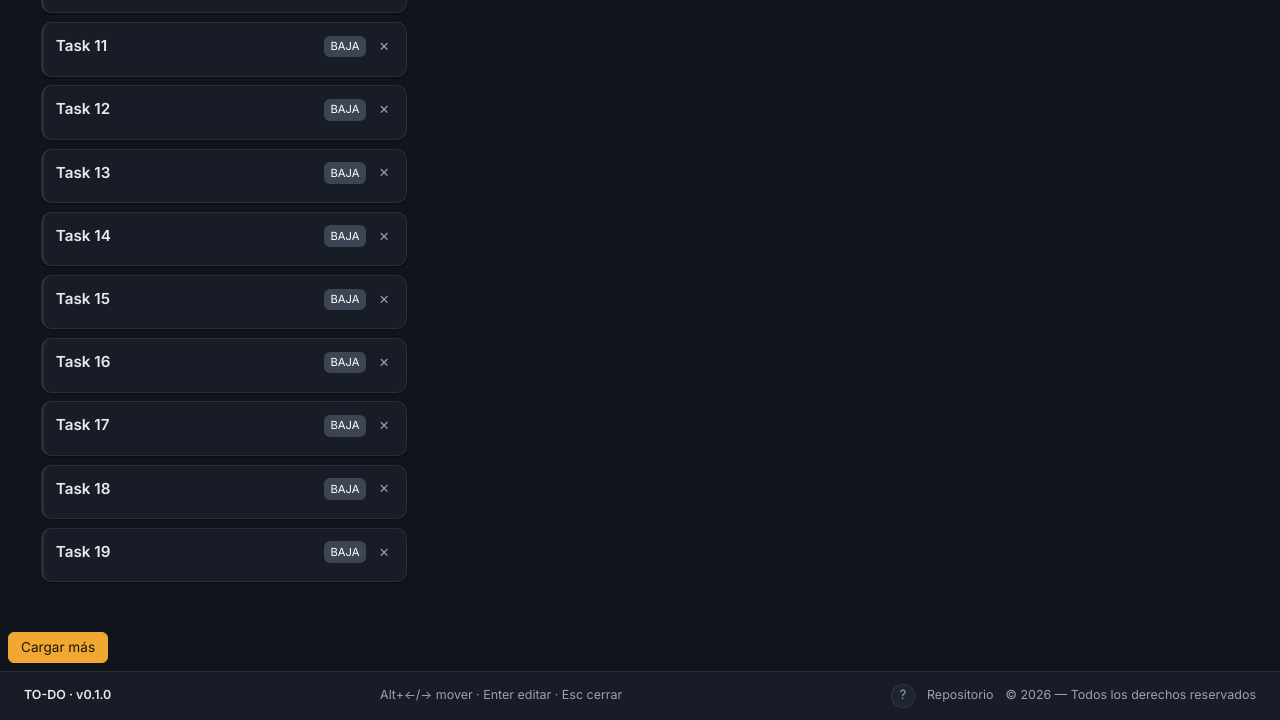
TodoListPage Kanban (through the repository seam) › loads more pages of tasks
The image size is (1280, 720).
(page scrolled)
Click the button "Cargar más".
click(58, 647)  # box [8,632,108,663]
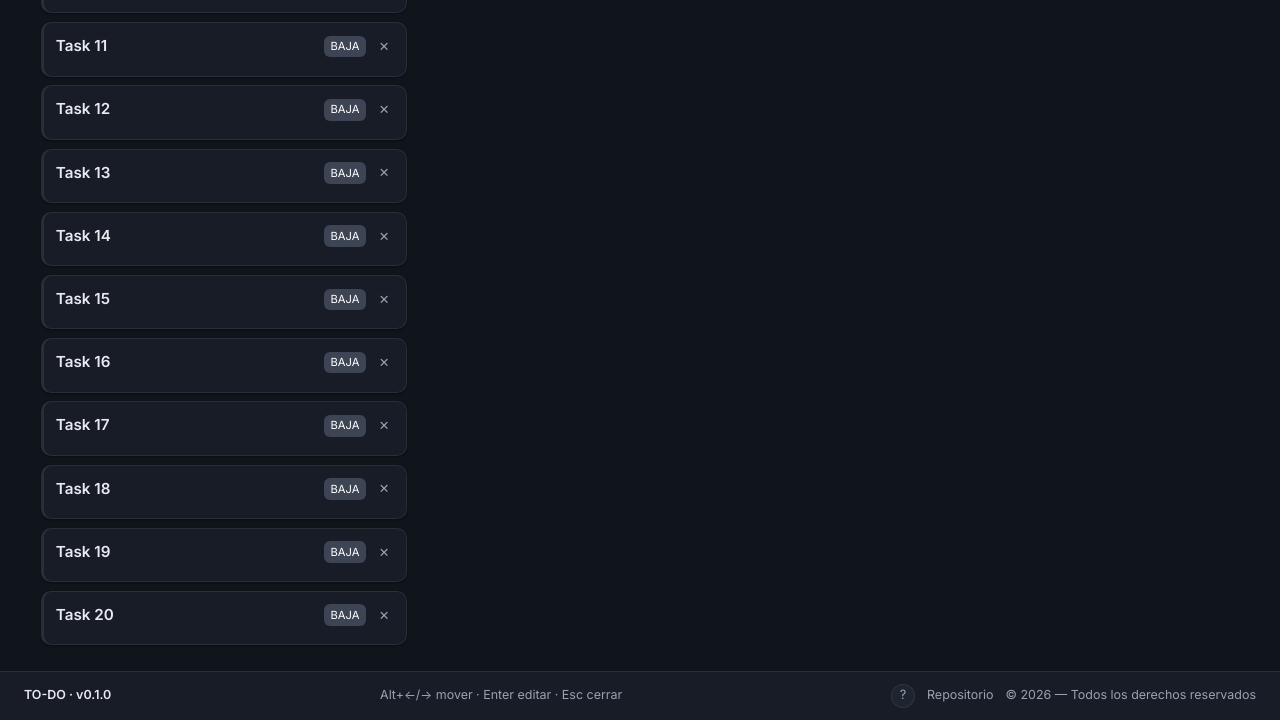
Expected: the text "Task 20" is shown, [56,605,114,624]
